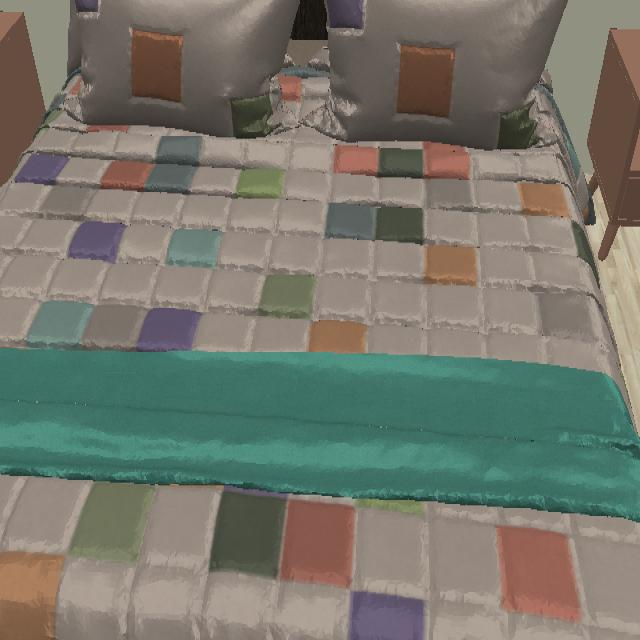bed: (0, 0, 640, 640)
nighttable: (588, 29, 640, 223), (0, 12, 47, 187)
pillow: (62, 0, 570, 149)
